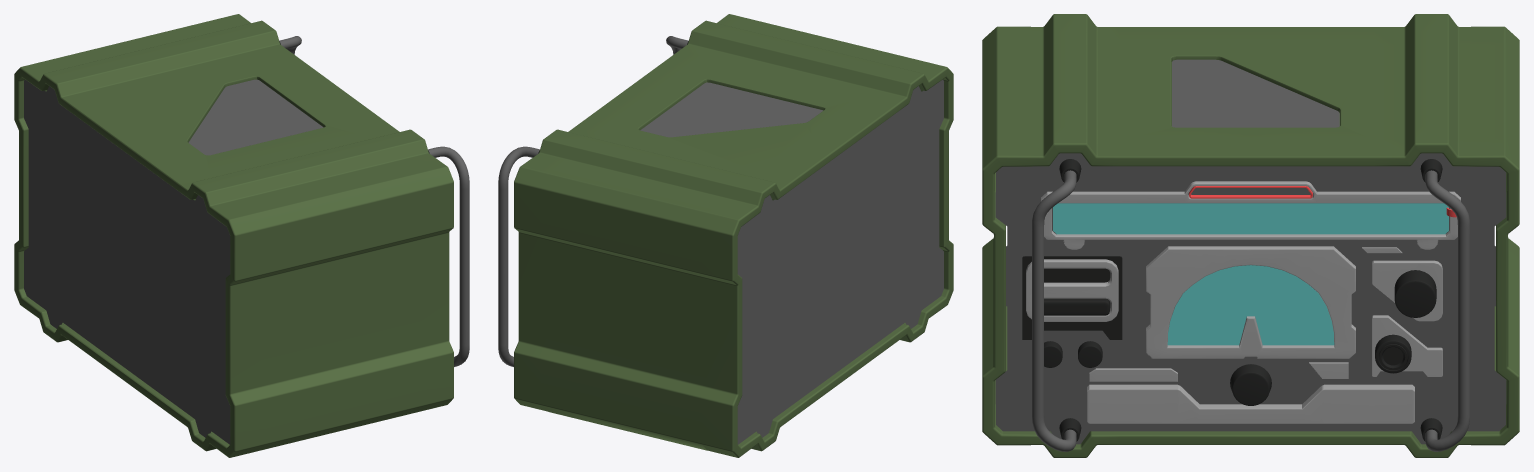
Rendered from Sci-FiBoxeUV2Mates.fbx.
The picture shows the model from 3 angles, left to right: view 1: azimuth 30°, elevation 25°; view 2: azimuth 150°, elevation 25°; view 3: azimuth 270°, elevation 25°; orthographic projection. The views are drawn at different scales.
Visible parts, largest first — view 1: polySurface8, polySurface2, polySurface9, polySurface4; view 2: polySurface8, polySurface2, polySurface9, polySurface4; view 3: polySurface8, polySurface2, pCylinder1, polySurface7, pCube3, pPlane1, polySurface9, polySurface4 (×2), polySurface10, pCube8, polySurface12, pCube4 (+9 smaller).
Part boxes in pixels (box(x1,y1,x2,y2)): polySurface8: box(14, 14, 453, 457); polySurface2: box(24, 79, 230, 444); polySurface9: box(188, 79, 323, 155); polySurface4: box(428, 146, 469, 366); polySurface8: box(514, 14, 953, 457); polySurface2: box(737, 79, 943, 444); polySurface9: box(640, 82, 823, 137); polySurface4: box(498, 146, 539, 366); polySurface8: box(982, 14, 1519, 457); polySurface2: box(995, 153, 1506, 444); pCylinder1: box(1146, 246, 1355, 358); polySurface7: box(1053, 203, 1448, 234); pCube3: box(1087, 384, 1414, 423); pPlane1: box(1167, 265, 1334, 345); polySurface9: box(1172, 59, 1339, 127); polySurface4 (×2): box(1032, 170, 1469, 451); polySurface10: box(1041, 181, 1460, 249); pCube8: box(1022, 256, 1122, 339); polySurface12: box(1026, 259, 1118, 321); pCube4: box(1372, 260, 1442, 321).
Size of the model in its own units: 9.02 by 8.67 by 13.41.
